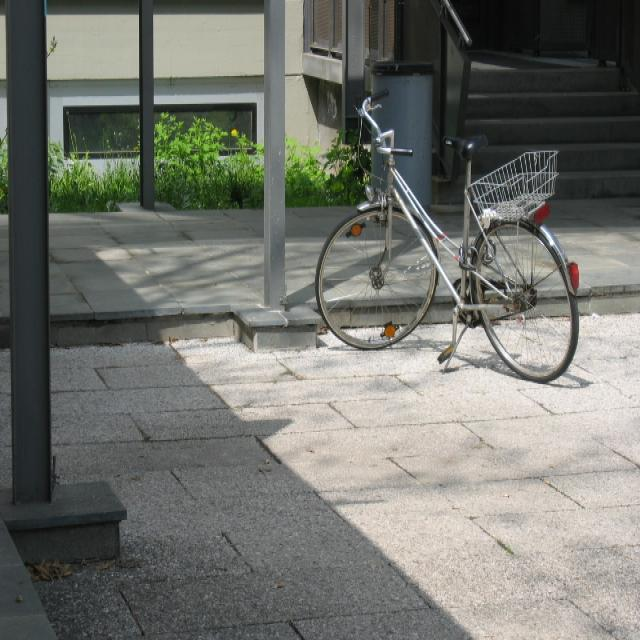bicycle: (314, 86, 579, 382)
